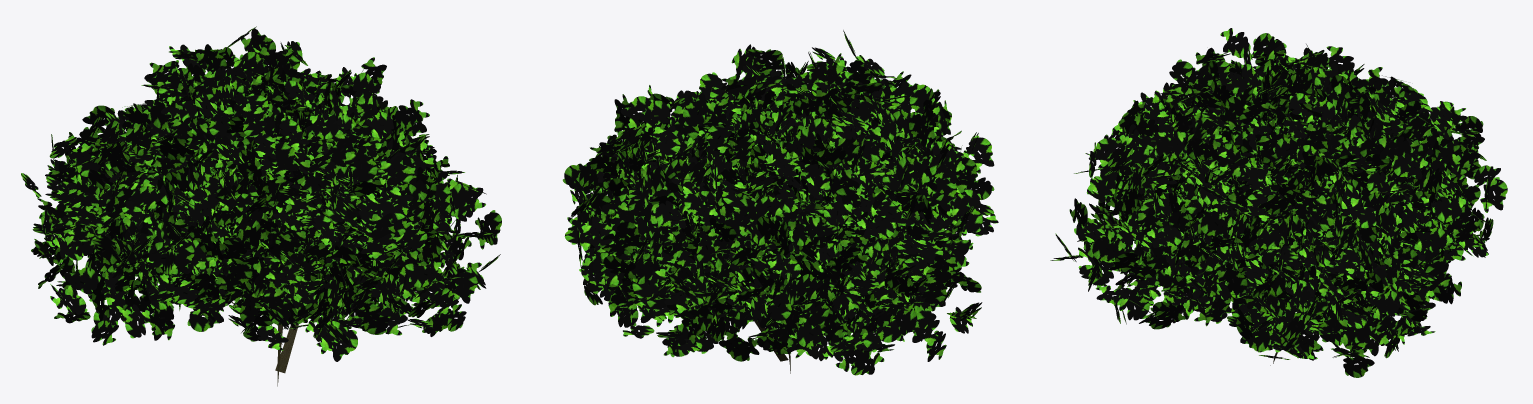
The model's file is understory_laurel_v01_LOD1.fbx.
The picture shows the model from 3 angles, left to right: view 1: azimuth 30°, elevation 25°; view 2: azimuth 150°, elevation 25°; view 3: azimuth 270°, elevation 25°; orthographic projection. The views are drawn at different scales.
Parts seen in each view (by area): view 1: understory_laurel_v01_LOD1; view 2: understory_laurel_v01_LOD1; view 3: understory_laurel_v01_LOD1.
Boxes of the visible parts, left/top/right/bottom form: understory_laurel_v01_LOD1: left=21, top=26, right=501, bottom=386; understory_laurel_v01_LOD1: left=562, top=30, right=998, bottom=375; understory_laurel_v01_LOD1: left=1050, top=28, right=1507, bottom=377.
Size of the model in its own units: 872 by 884 by 635.
Materials: 2 (2 with a texture image).
